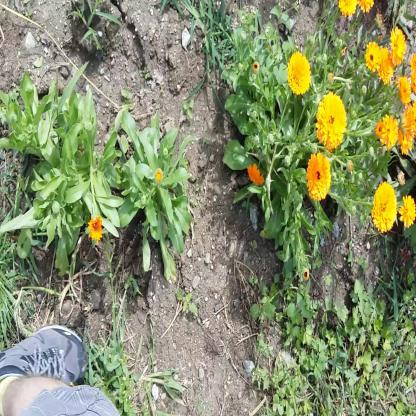marigold: (317, 94, 346, 144), (372, 180, 397, 230), (305, 153, 331, 199), (288, 52, 310, 94), (388, 28, 408, 63), (364, 41, 384, 74), (381, 113, 398, 150), (379, 45, 394, 84), (245, 162, 265, 186), (397, 124, 412, 155), (401, 194, 415, 227), (398, 72, 411, 104), (403, 102, 414, 136)
